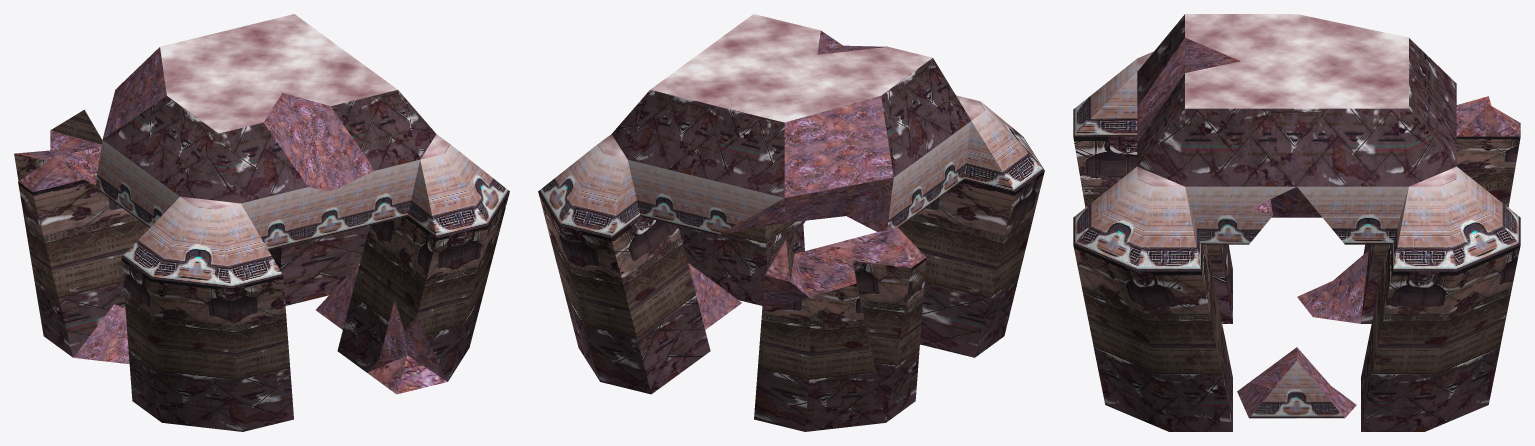
Rendered from bbruin03.FBX.
3 views of the same model, side by side, from view 1: azimuth 30°, elevation 25°; view 2: azimuth 150°, elevation 25°; view 3: azimuth 270°, elevation 25° (orthographic). The views are drawn at different scales.
Visible parts, largest first — view 1: bbruin03, rfedge03, dmg; view 2: bbruin03, rfedge03, dmg; view 3: bbruin03, rfedge03, dmg.
Part boxes in pixels (bbox=[...]): bbruin03: bbox=[14, 90, 509, 431]; rfedge03: bbox=[95, 14, 509, 287]; dmg: bbox=[15, 47, 447, 394]; bbruin03: bbox=[538, 58, 1044, 431]; rfedge03: bbox=[538, 14, 1044, 237]; dmg: bbox=[688, 31, 926, 329]; bbruin03: bbox=[1073, 14, 1520, 431]; rfedge03: bbox=[1073, 14, 1520, 418]; dmg: bbox=[1137, 37, 1520, 417].
Size of what is drawn, in the model's own units: 56 by 56 by 40.5.
